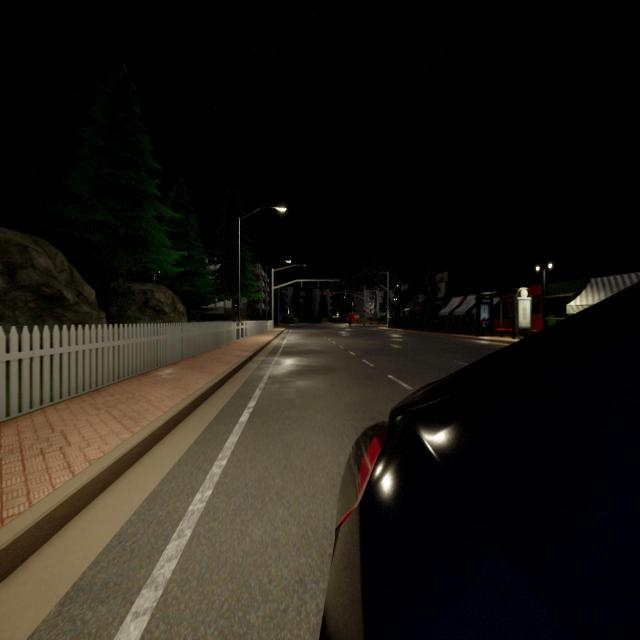Pedestrian: (348, 313, 353, 330)
Vehicle: (322, 285, 640, 640), (344, 313, 360, 323)
traffic_light: (300, 280, 302, 286), (318, 281, 320, 287), (363, 307, 365, 312), (378, 286, 380, 290), (370, 289, 372, 293), (373, 288, 375, 292), (386, 305, 388, 308), (344, 292, 346, 295), (333, 292, 335, 295), (324, 292, 326, 295)
